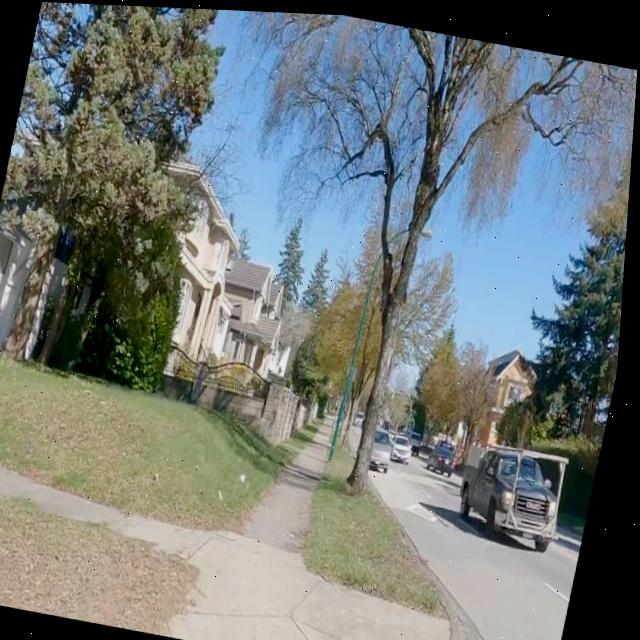Automobile: (467, 440, 572, 545), (375, 424, 399, 469), (433, 436, 459, 471), (397, 432, 417, 460)
Road: (377, 455, 585, 640)
Sidewalk: (130, 429, 459, 640), (0, 463, 213, 550), (251, 415, 336, 547)
